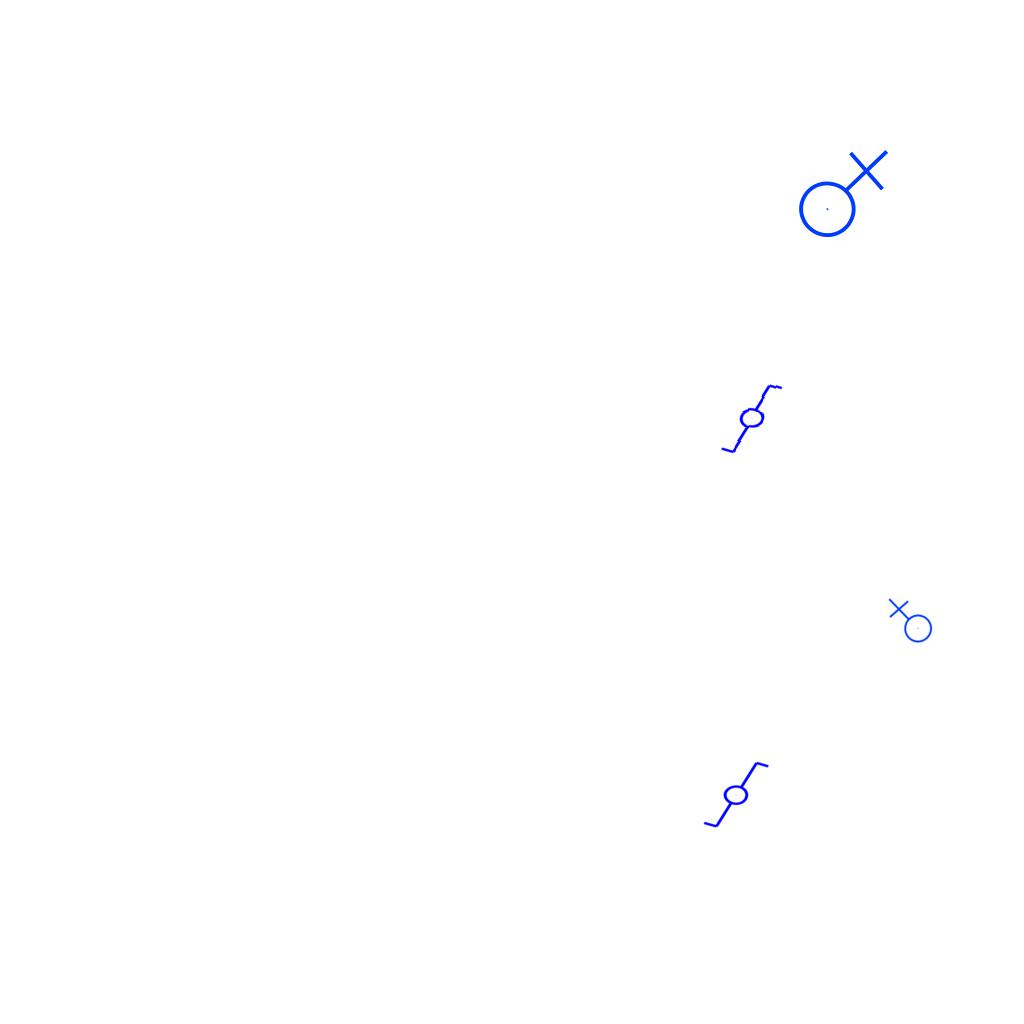Elektroanschluss_allgemein_230V_Geraeteanschlussdose_230V: (790, 145, 889, 239), (886, 598, 933, 647)
Wechselschalter: (714, 380, 798, 458), (693, 758, 771, 830)
